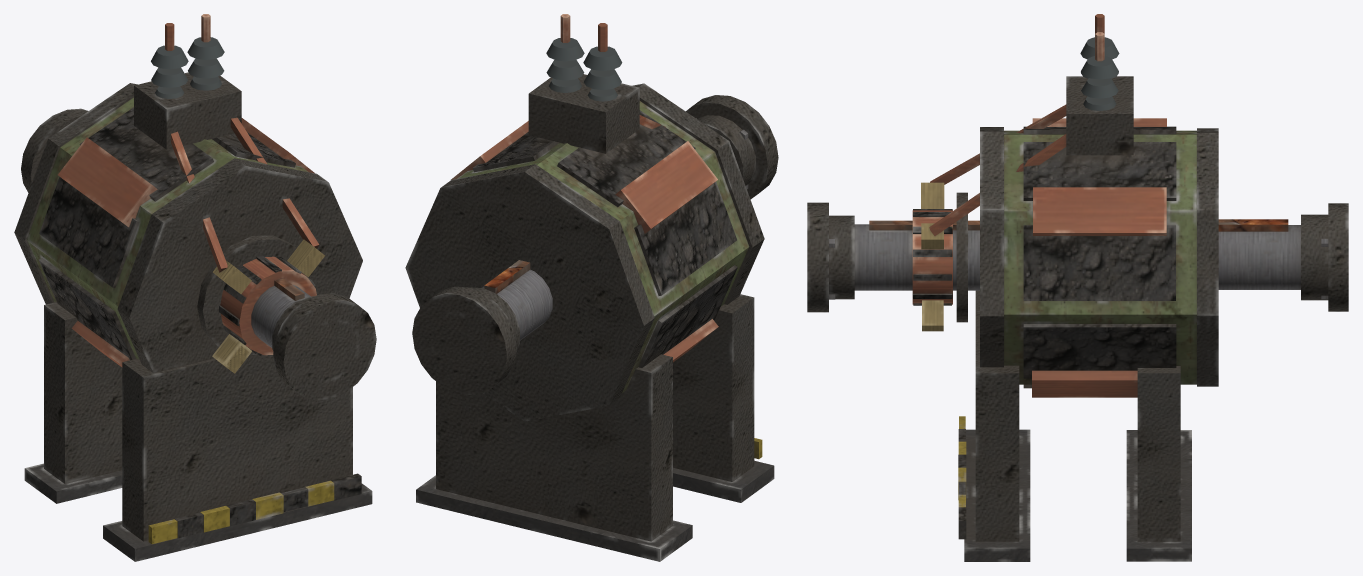
The model's file is feDynamo_HD.fbx.
The picture shows the model from 3 angles, left to right: view 1: azimuth 30°, elevation 25°; view 2: azimuth 150°, elevation 25°; view 3: azimuth 270°, elevation 25°; orthographic projection. The views are drawn at different scales.
Parts seen in each view (by area): view 1: feDynamo_Base, FeSpin_DynamoArmature; view 2: feDynamo_Base, FeSpin_DynamoArmature; view 3: feDynamo_Base, FeSpin_DynamoArmature.
Part boxes in pixels (left/top/right/bottom): feDynamo_Base: left=14, top=14, right=372, bottom=561; FeSpin_DynamoArmature: left=21, top=108, right=376, bottom=400; feDynamo_Base: left=405, top=14, right=774, bottom=561; FeSpin_DynamoArmature: left=412, top=95, right=778, bottom=395; feDynamo_Base: left=921, top=14, right=1218, bottom=561; FeSpin_DynamoArmature: left=807, top=202, right=1348, bottom=312.
Size of the model in its own units: 0.5224 by 0.9772 by 1.
1 material, 1 textured.
